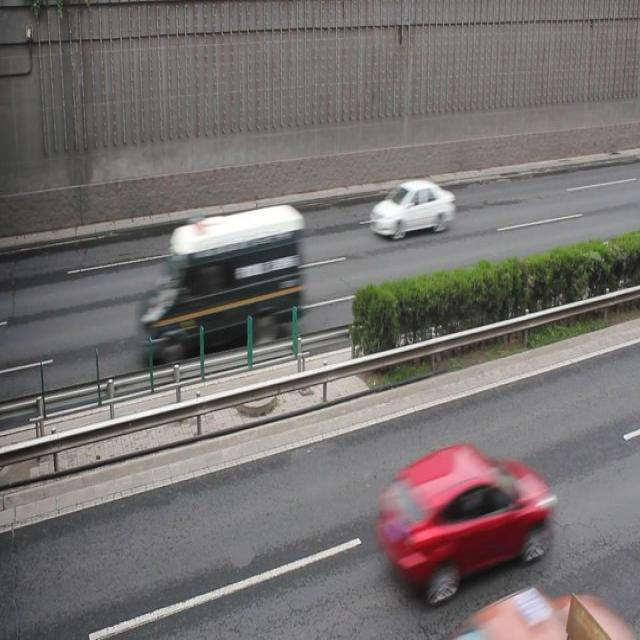car: (377, 442, 550, 600), (368, 180, 454, 238)
truck: (141, 200, 304, 360)
